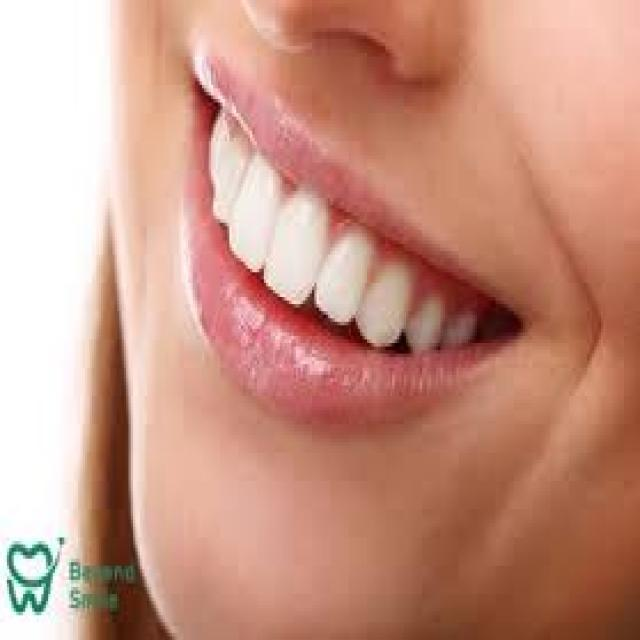tooth: (280, 191, 312, 293), (328, 230, 360, 315), (372, 265, 404, 336), (243, 170, 273, 237), (411, 297, 438, 347), (209, 113, 227, 163), (450, 308, 472, 347), (222, 148, 238, 191)
